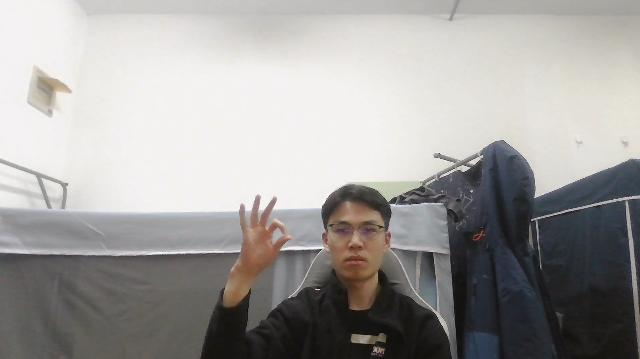ok: (237, 193, 294, 265)
